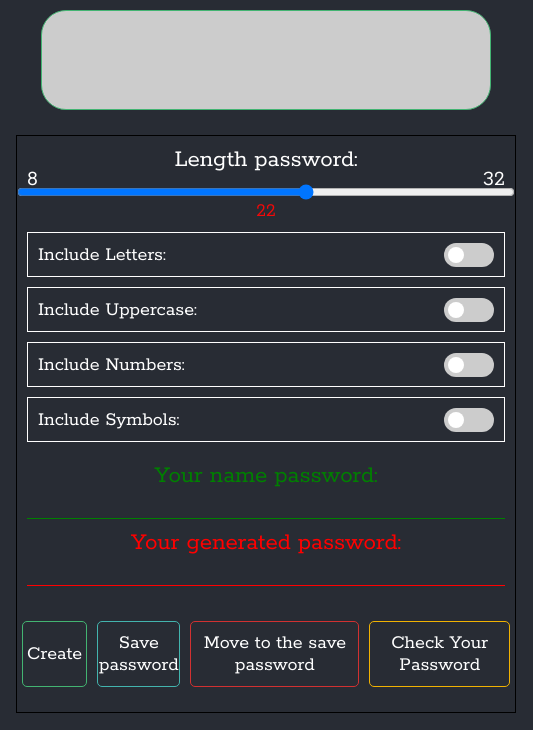
Test case: Box tests - action › action after click Create button
Click the button "Create".
click(55, 654)  # box x1=22 y1=621 x2=87 y2=687
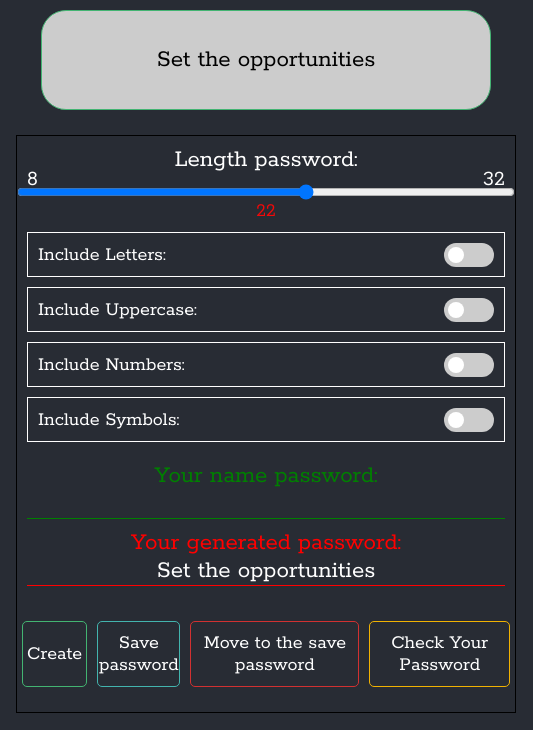
Now the text "Set the opportunities" is shown, box x1=41 y1=10 x2=491 y2=110
